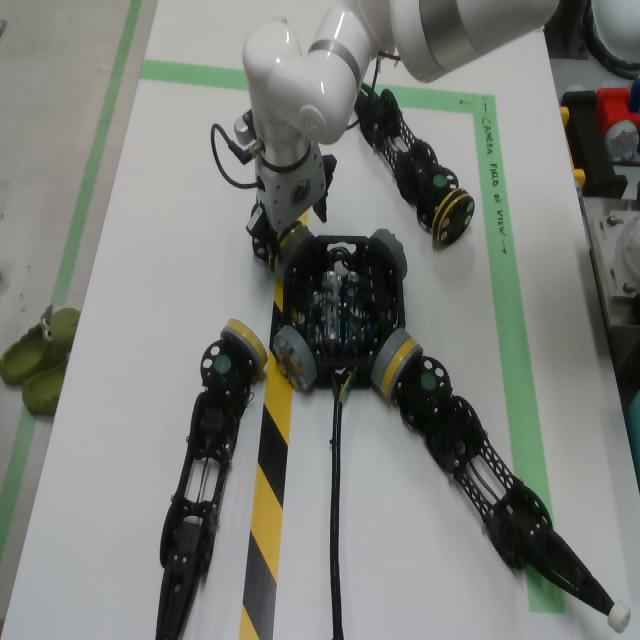body: (283, 236, 406, 391)
body_connector: (273, 325, 318, 392), (370, 328, 411, 393), (278, 227, 315, 281), (370, 229, 408, 279)
gripper: (246, 141, 338, 259)
leg: (382, 339, 632, 633), (155, 318, 268, 640), (354, 83, 474, 245), (251, 237, 278, 272), (278, 221, 306, 251)
leg_connector: (381, 339, 423, 400), (221, 319, 269, 371), (432, 189, 474, 247), (278, 220, 306, 249), (268, 245, 279, 273)
leg_marker: (214, 355, 230, 373), (422, 373, 437, 391), (433, 175, 446, 187)
